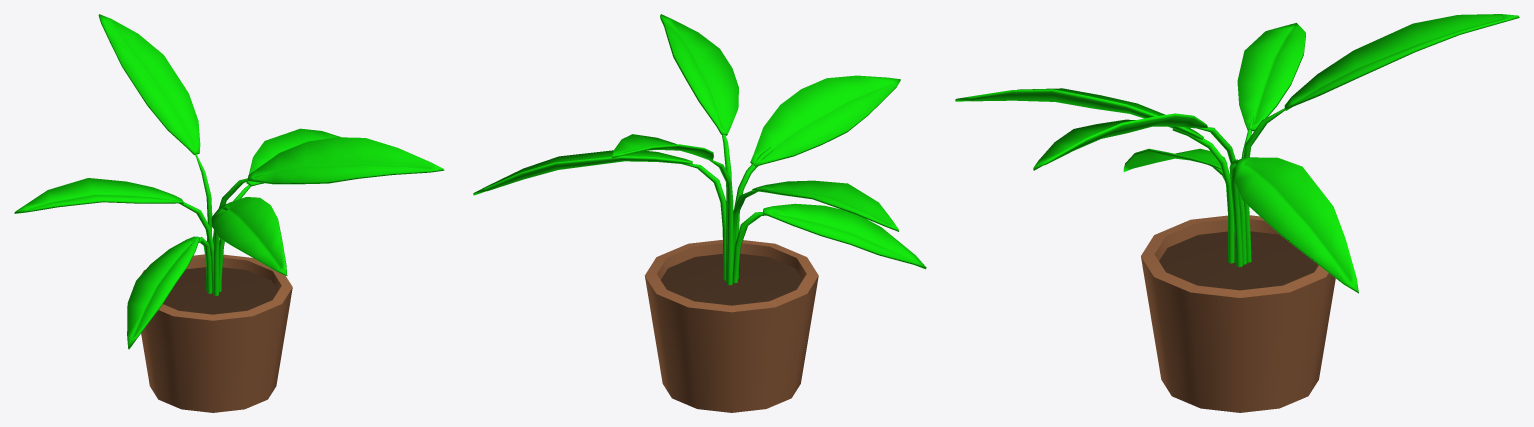
File: Potted Plant.fbx
The picture shows the model from 3 angles, left to right: view 1: azimuth 30°, elevation 25°; view 2: azimuth 150°, elevation 25°; view 3: azimuth 270°, elevation 25°; orthographic projection. The views are drawn at different scales.
Parts seen in each view (by area): view 1: Potted Plant; view 2: Potted Plant; view 3: Potted Plant.
Boxes of the visible parts, x1,y1,x2,y2 form: Potted Plant: (14,14,444,412); Potted Plant: (473,14,926,412); Potted Plant: (955,14,1519,412).
Size of the model in its own units: 4.6 by 4.94 by 3.5.
